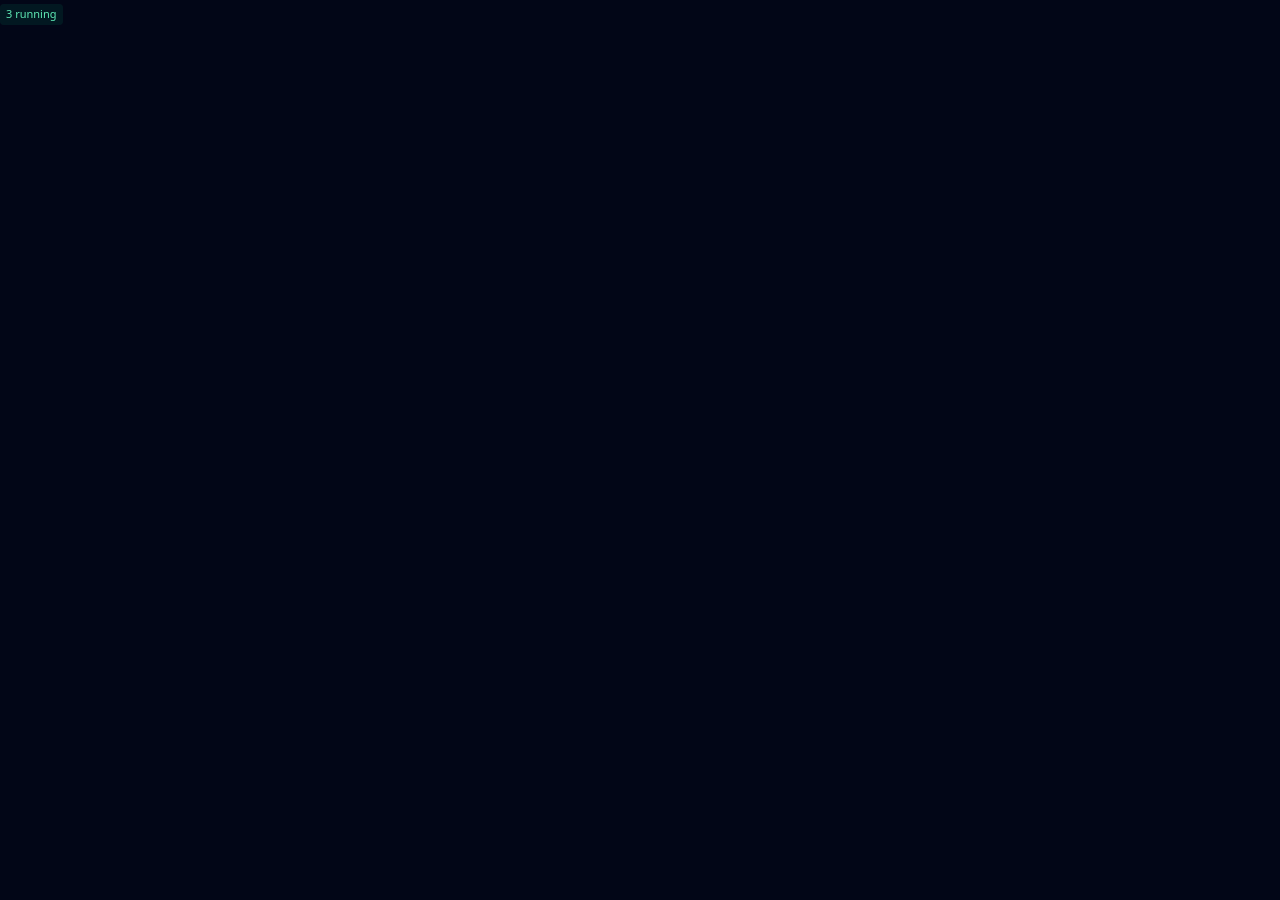
Test: the pill counts what runs, and a click lists all of it
The image size is (1280, 900).
Click the button "3 running". click: (31, 14)
box: [0, 4, 62, 24]
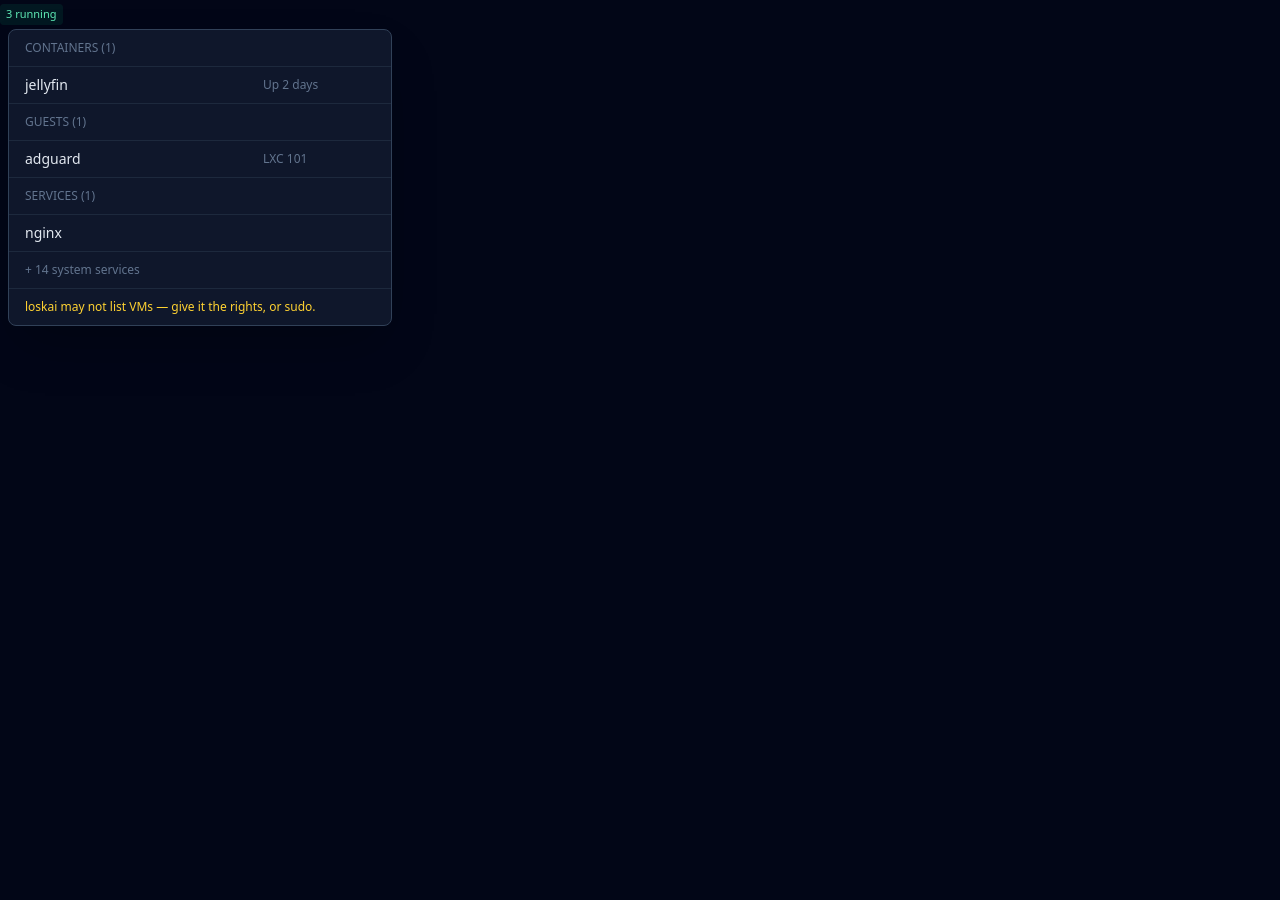
Check: the dialog named "Running" shows "Containers (1)", box [25, 38, 115, 56]
Check: the dialog named "Running" shows "jellyfin", box [25, 74, 68, 94]
Check: the dialog named "Running" shows "Up 2 days", box [263, 76, 318, 92]
